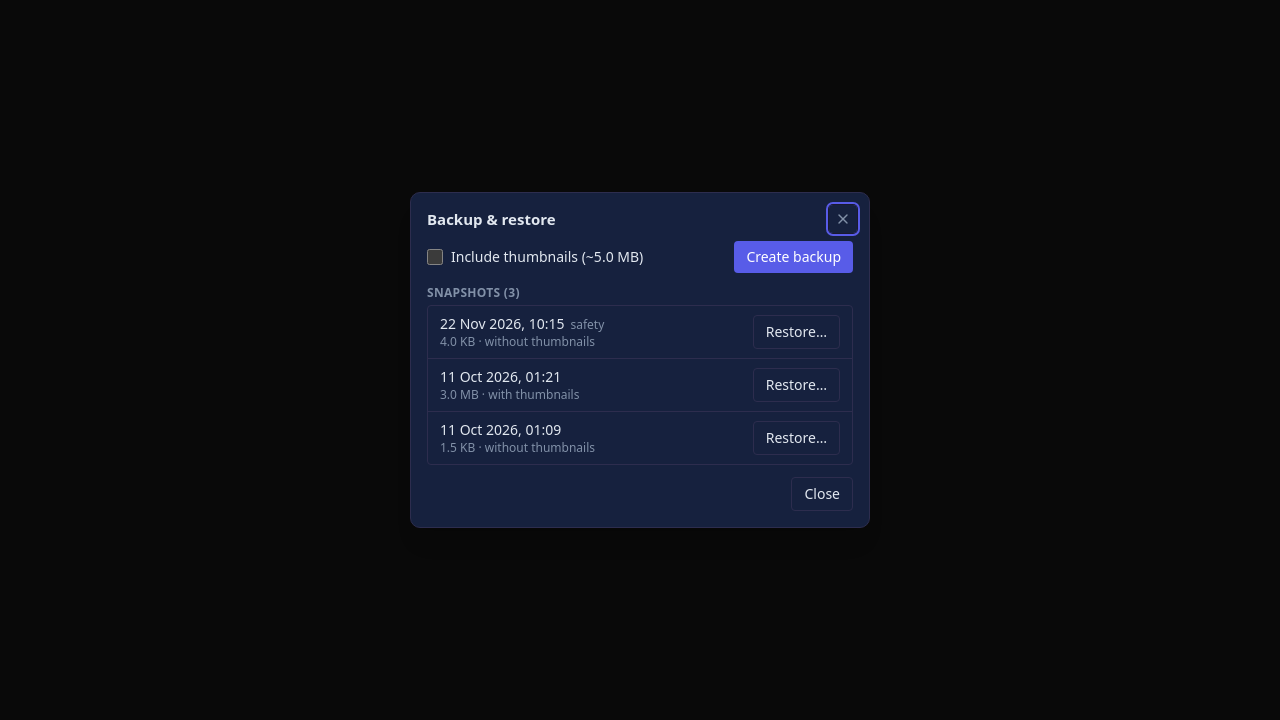
Scenario: BackupRestoreDialog › Restore… opens the confirmation with focus on Cancel; Cancel and Escape send nothing
This screenshot has width=1280, height=720.
Later steps or results of the test are not shown.
Click the button "Restore…" in the row of "11 Oct 2026, 01:21". click: [796, 385]
box: 753,368 -> 840,402
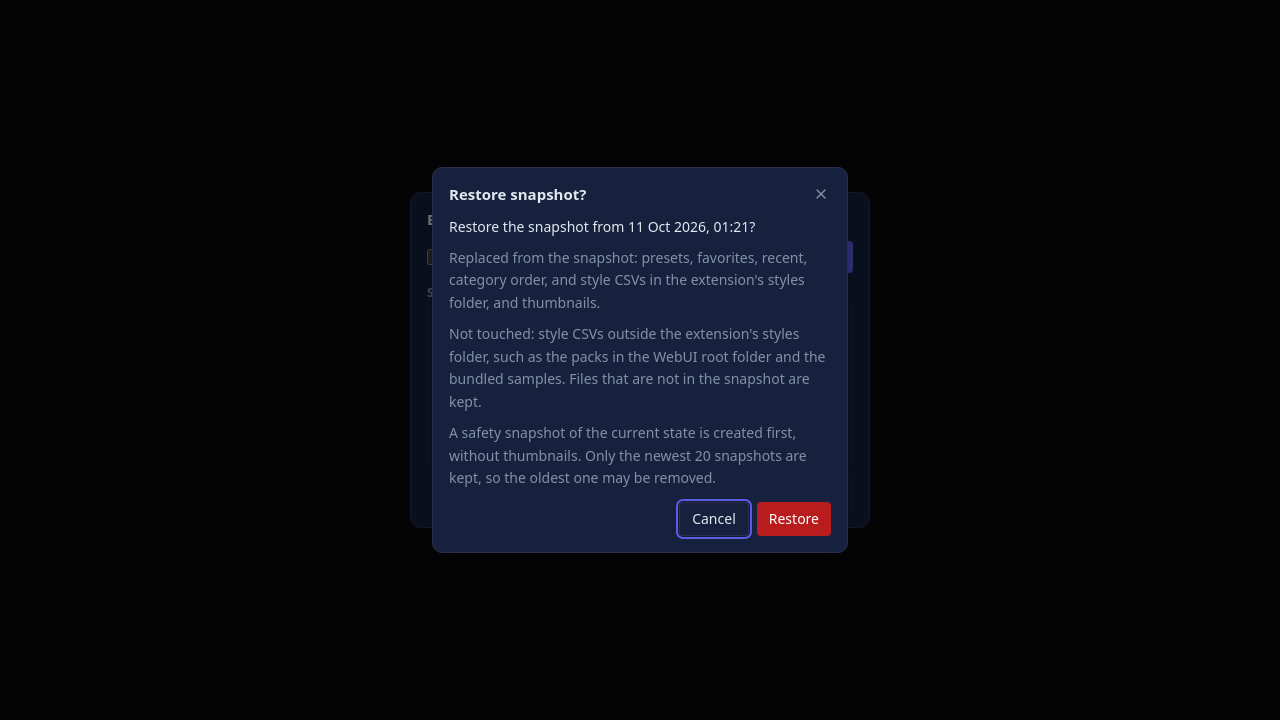
Expected: the dialog is shown, 432,167 -> 848,553
